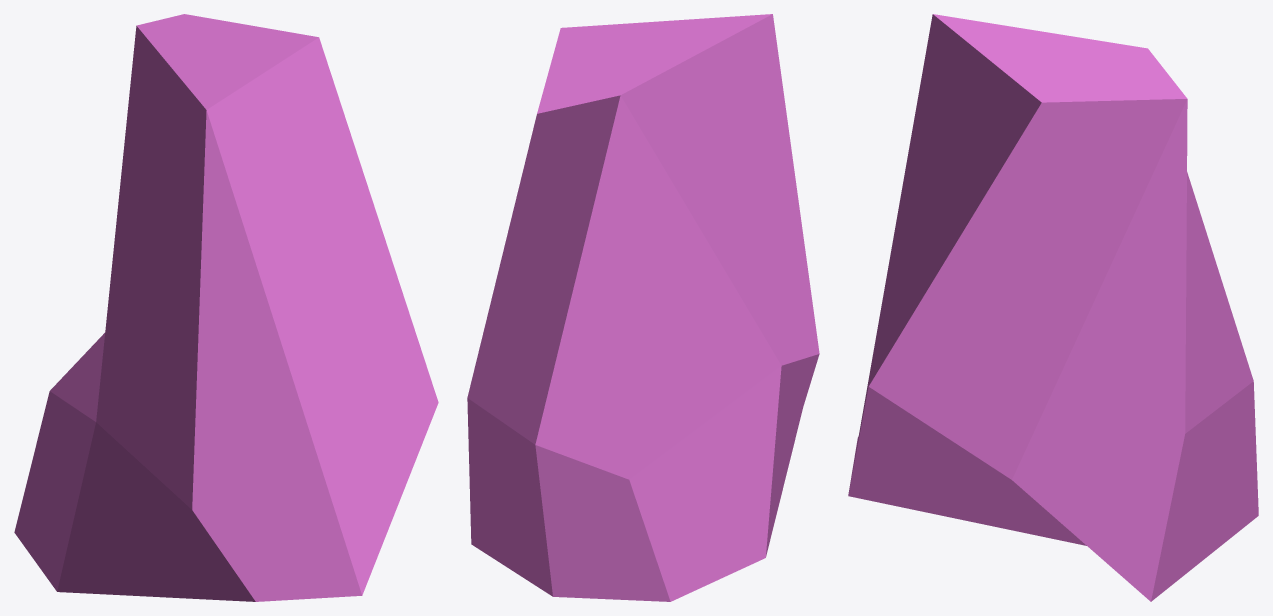
The model's file is IdeaGeo4.fbx.
3 renders of one model, left to right at view 1: azimuth 30°, elevation 25°; view 2: azimuth 150°, elevation 25°; view 3: azimuth 270°, elevation 25°, orthographic. The views are drawn at different scales.
Visible parts, largest first — view 1: Cube; view 2: Cube; view 3: Cube.
Part boxes in pixels (<box>): Cube: <box>14,14,438,601</box>; Cube: <box>467,14,819,601</box>; Cube: <box>848,14,1258,601</box>.
Bounding box in the file's own units: 227 × 394 × 292.
